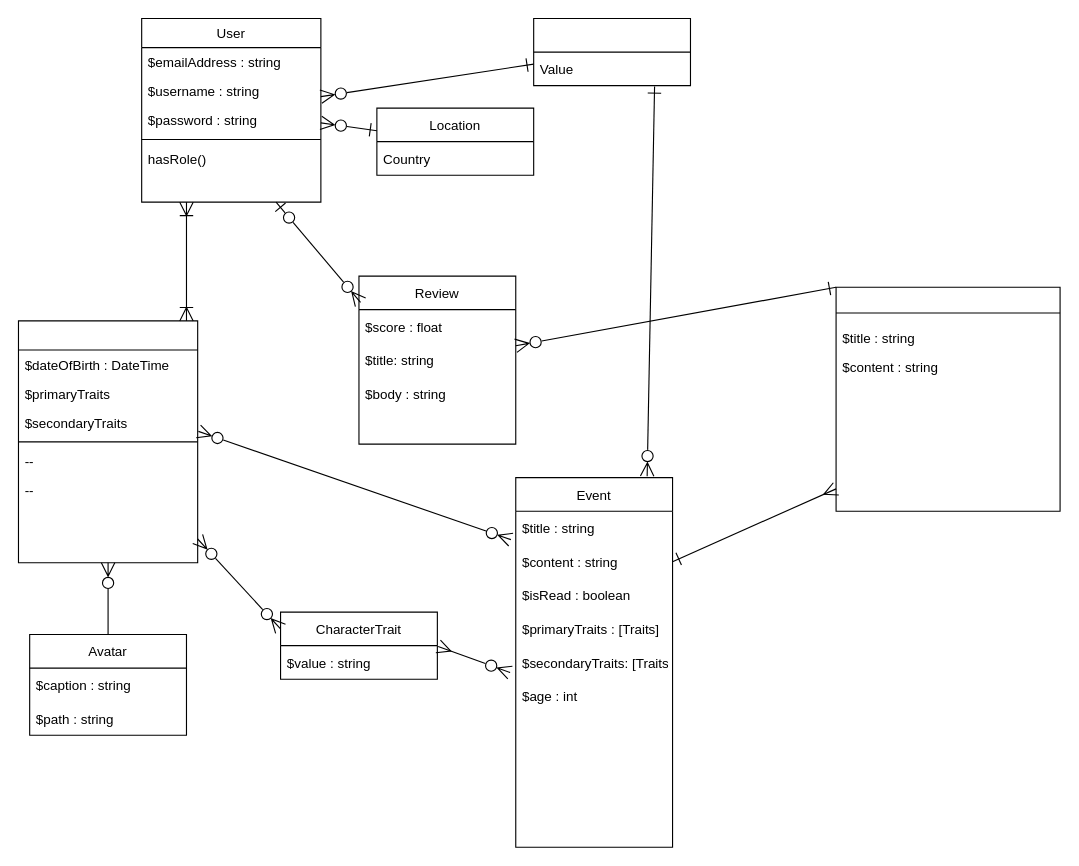
This 1079x866 diagram has some shape labels left out. The box of each missing label's shape, as (x1, y1, x2, y2) in pixels:
Child: (17, 320, 198, 563)
Language: (533, 17, 690, 86)
Tip: (835, 286, 1060, 511)
